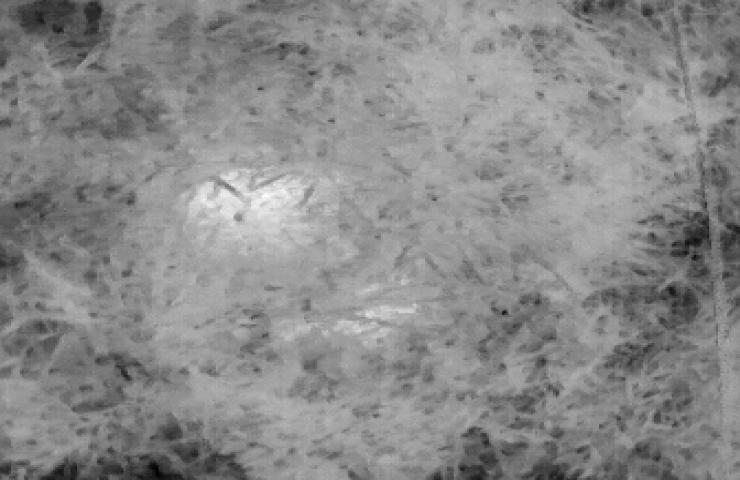landmines: (185, 161, 347, 264)
